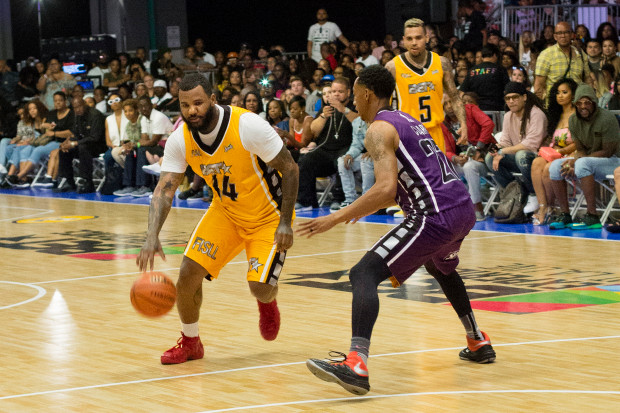ball: (128, 273, 176, 320)
player: (340, 77, 479, 396), (165, 81, 287, 357), (378, 24, 459, 149)
